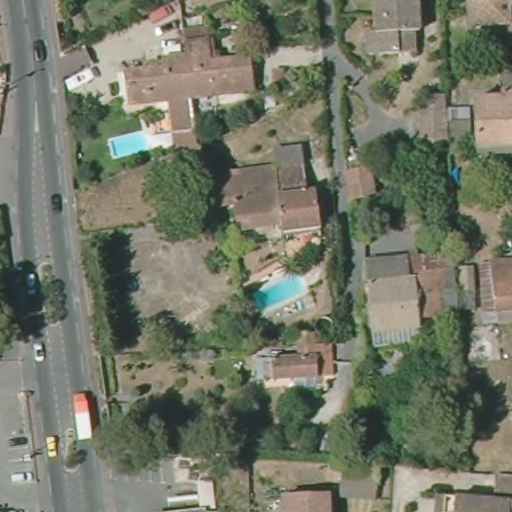pool: (248, 272, 312, 313), (101, 127, 152, 160)
